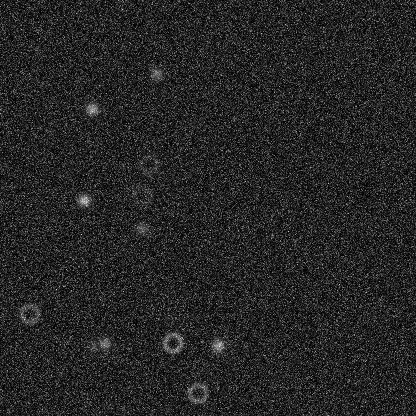Ring: (160, 330, 184, 354), (136, 152, 160, 176), (130, 183, 154, 207), (185, 380, 209, 404), (17, 301, 41, 325)
Spot: (210, 337, 226, 353), (148, 65, 164, 81), (83, 101, 99, 117), (85, 337, 101, 353), (162, 310, 178, 326), (75, 191, 91, 207), (133, 220, 149, 236), (96, 335, 112, 351)
